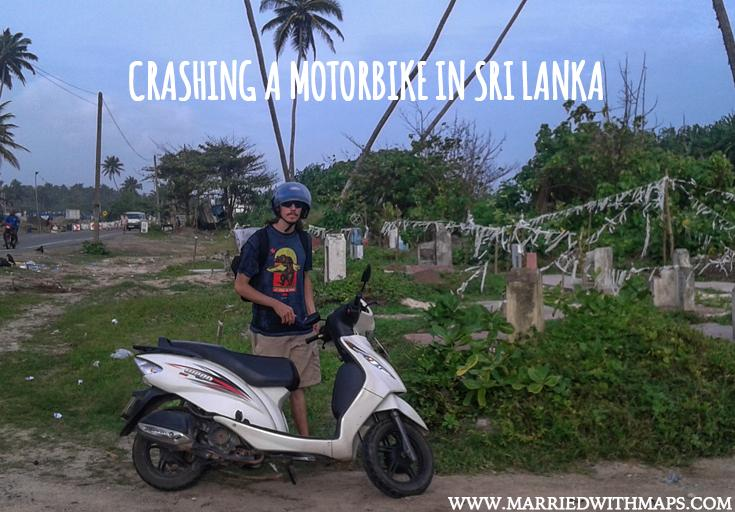motorbike: (118, 262, 433, 497)
